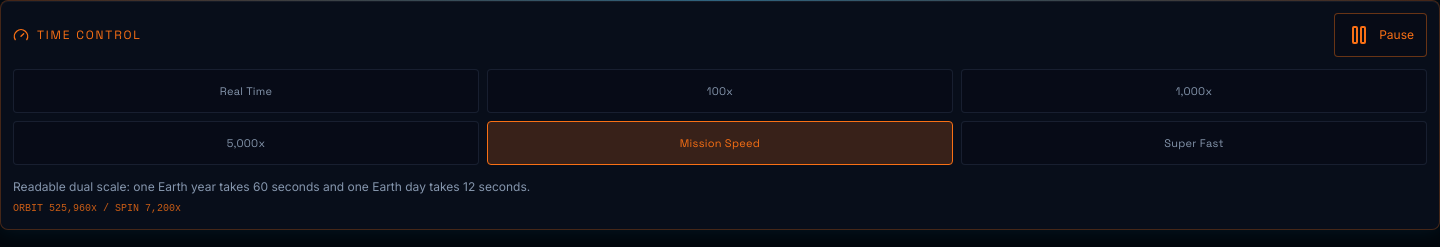
SimulationControls › selects a speed without modifying the accumulated clocks
Click the button "Super Fast": {"x": 1194, "y": 143} [961,121,1427,165]
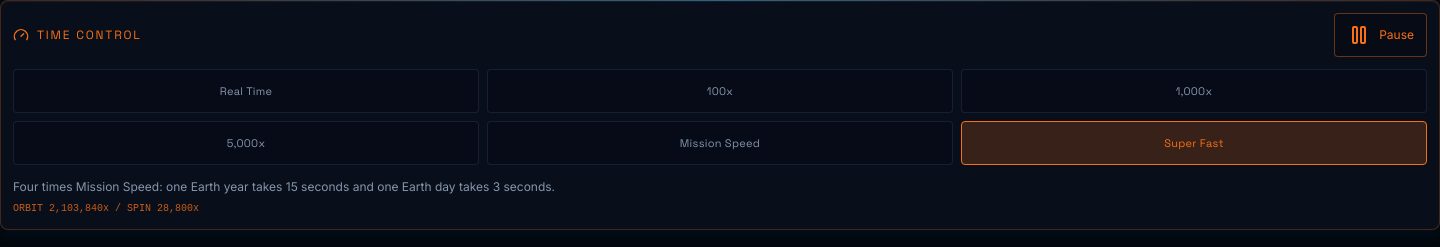
Expected: the element with test id "simulation-scale-description" shows "Earth year takes 15 seconds", [13,179,555,194]
